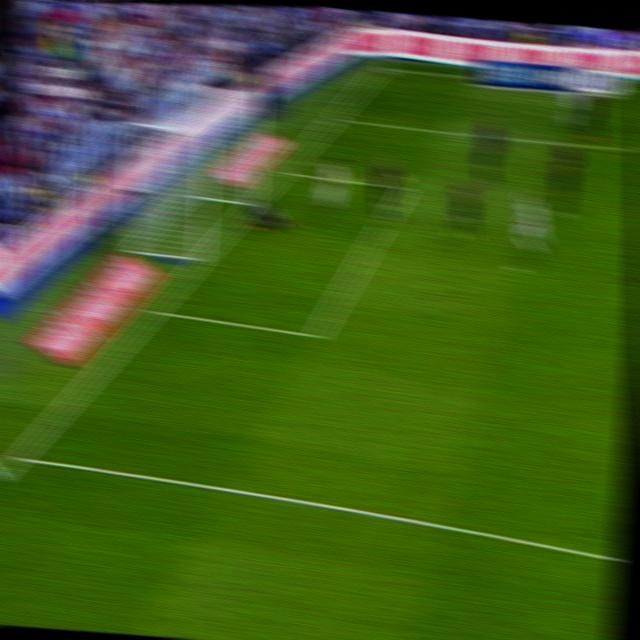bigarea_bottom_inner: (306, 319, 328, 348)
bigarea_top_outter: (326, 108, 344, 126)
bottom_arc_area_intersection: (7, 439, 32, 474)
corner: (372, 60, 393, 77)
smallarea_bottom_outter: (144, 295, 166, 324)
smallarea_top_outter: (275, 162, 294, 180)
